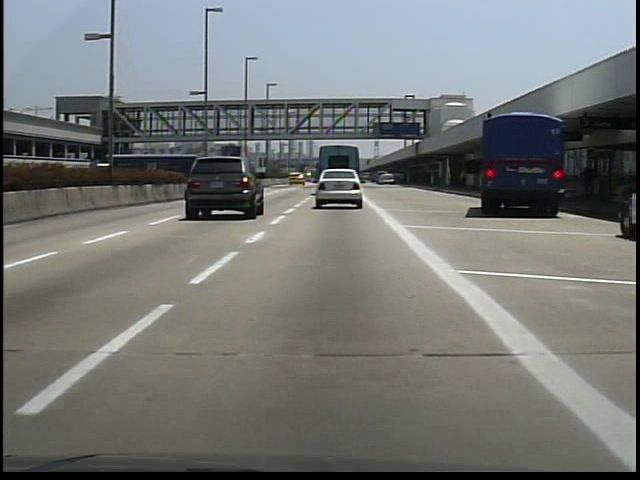person: (577, 154, 597, 210)
